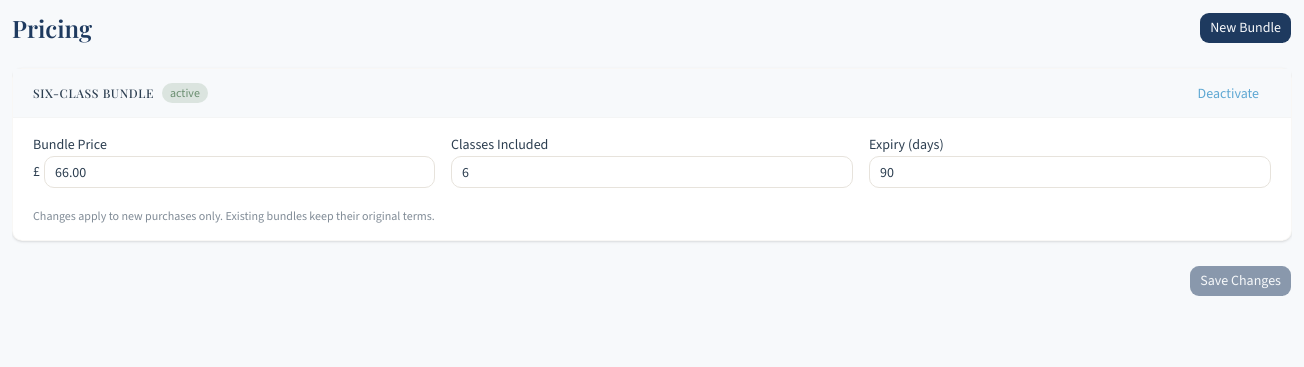
Test: /admin/pricing › shows the server's refusal
Step 1. Replace the text in the field showing "66.00" with "72.00" → (240, 172), box x1=44 y1=156 x2=435 y2=188
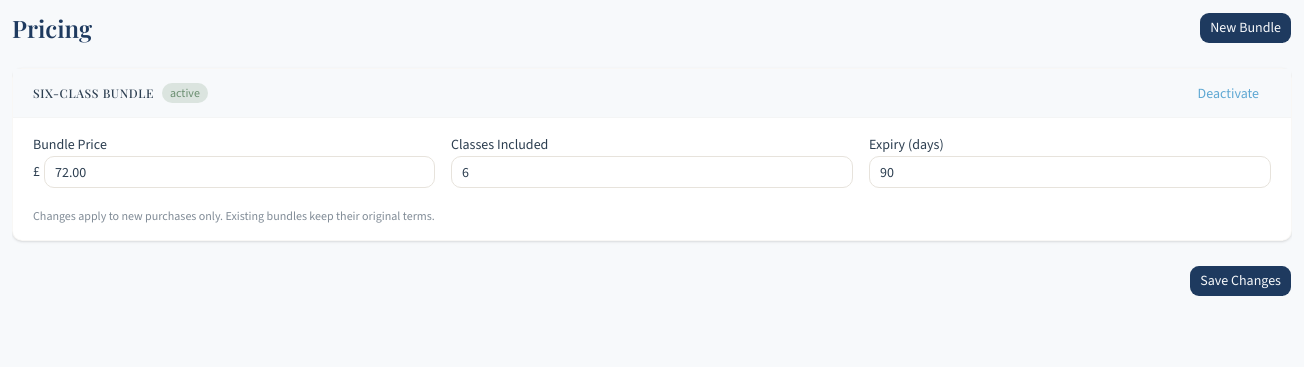
Step 2. Click the button "Save Changes" → (1241, 281), box x1=1189 y1=265 x2=1292 y2=297
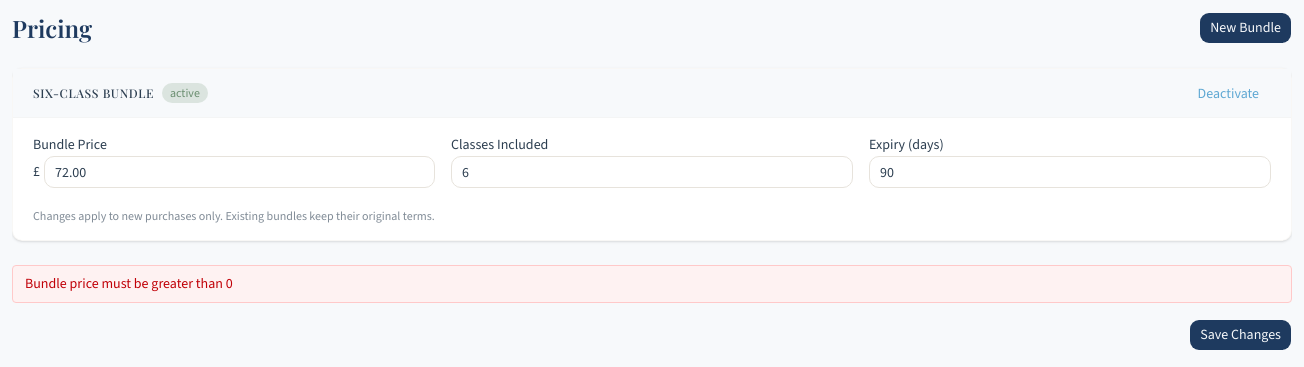
Check: the message reads "Bundle price must be greater than 0", box x1=25 y1=274 x2=233 y2=293
